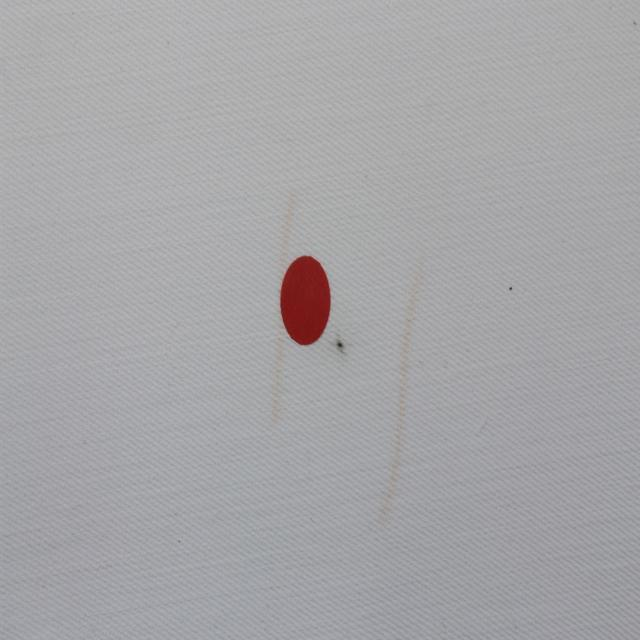stain: (279, 249, 333, 363), (336, 327, 360, 357)
